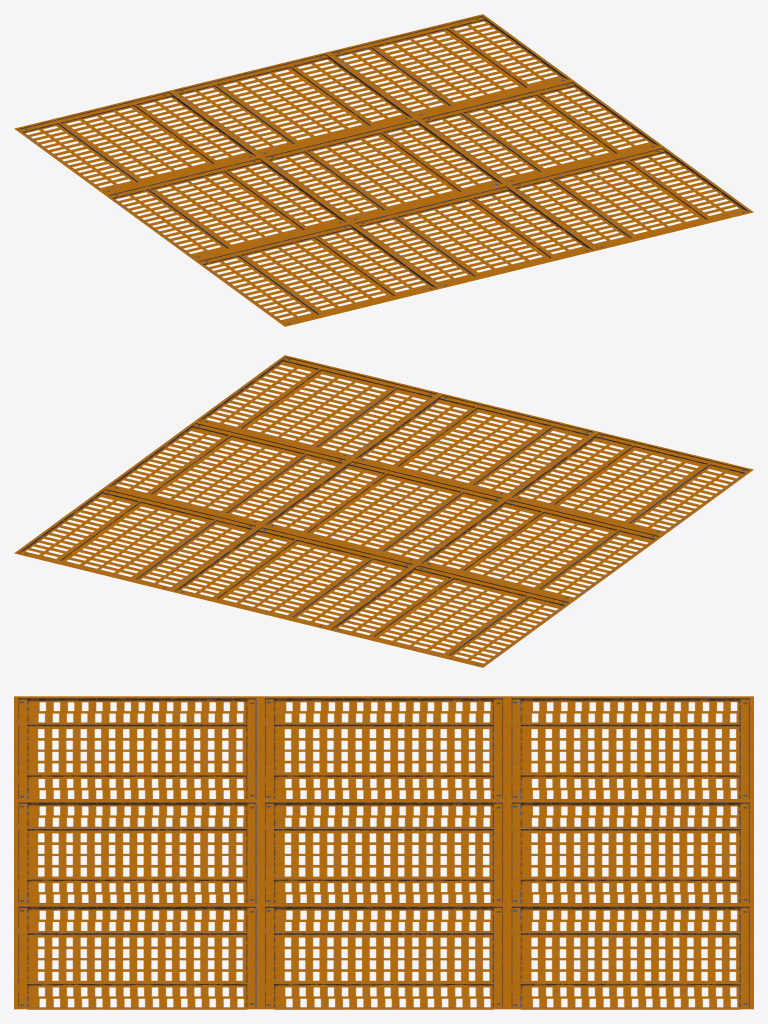
Rendered from scifi_floor_vents.glb.
The picture shows the model from 3 angles, top to bottom: view 1: azimuth 30°, elevation 25°; view 2: azimuth 150°, elevation 25°; view 3: azimuth 270°, elevation 25°; orthographic projection. The views are drawn at different scales.
Parts seen in each view (by area): view 1: vents; view 2: vents; view 3: vents.
Part boxes in pixels (x1,y1,x2,y2): vents: [14, 14, 753, 326]; vents: [14, 355, 753, 667]; vents: [14, 696, 753, 1009].
Bounding box in the file's own units: 2.42 × 0.00759 × 2.42.
Materials: 1 (1 with a texture image).
